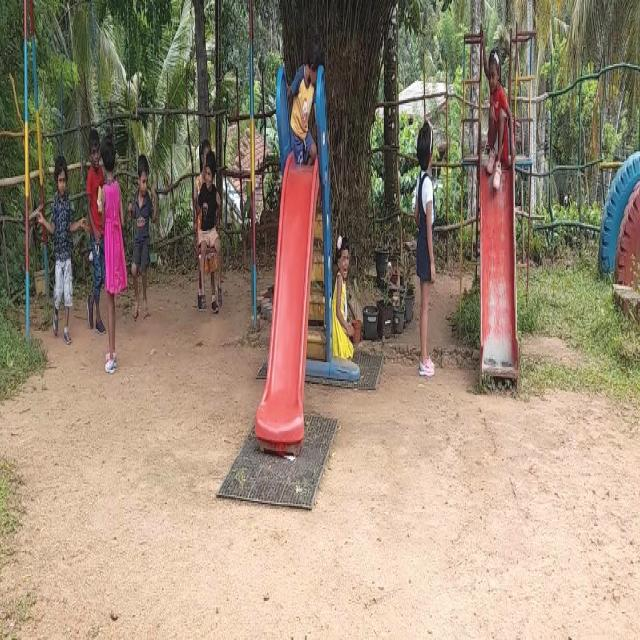child: (410, 123, 438, 384), (130, 139, 154, 317), (52, 118, 70, 338), (292, 30, 319, 173), (104, 131, 120, 358), (485, 32, 507, 196), (197, 137, 216, 300), (84, 126, 99, 326)
